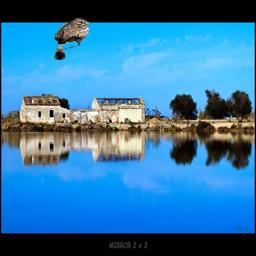Sparrow: (54, 18, 90, 60)
